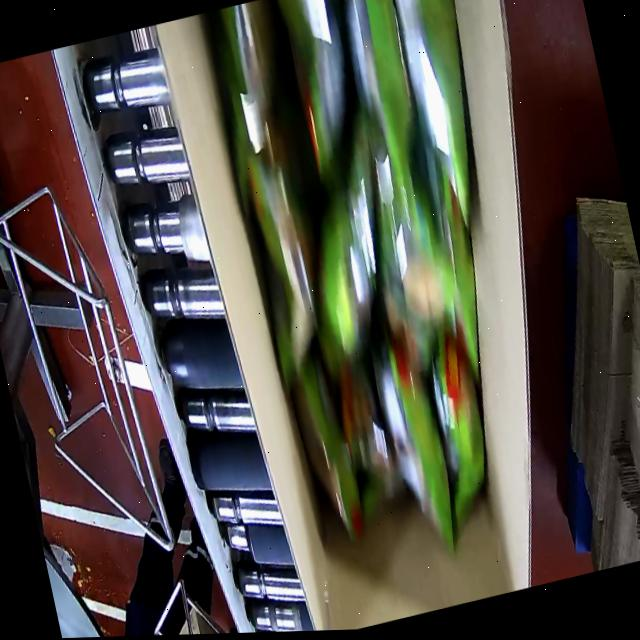YOGURT_HERB: (195, 0, 550, 569)
